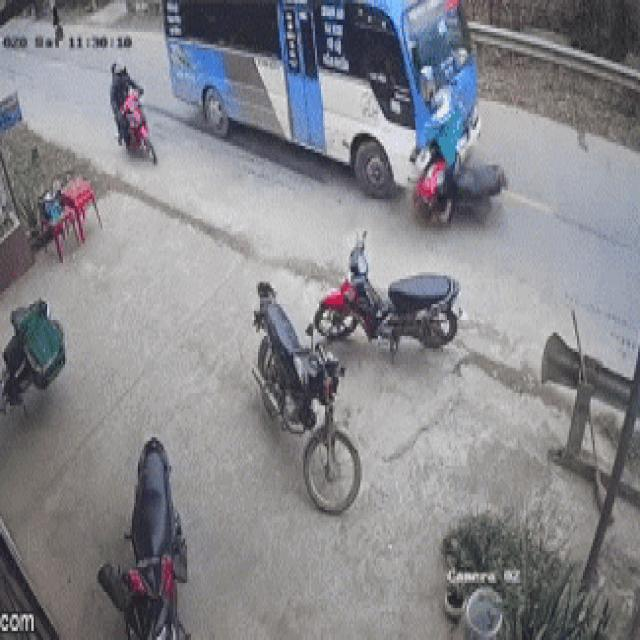multiple_accident: (162, 0, 513, 240)
